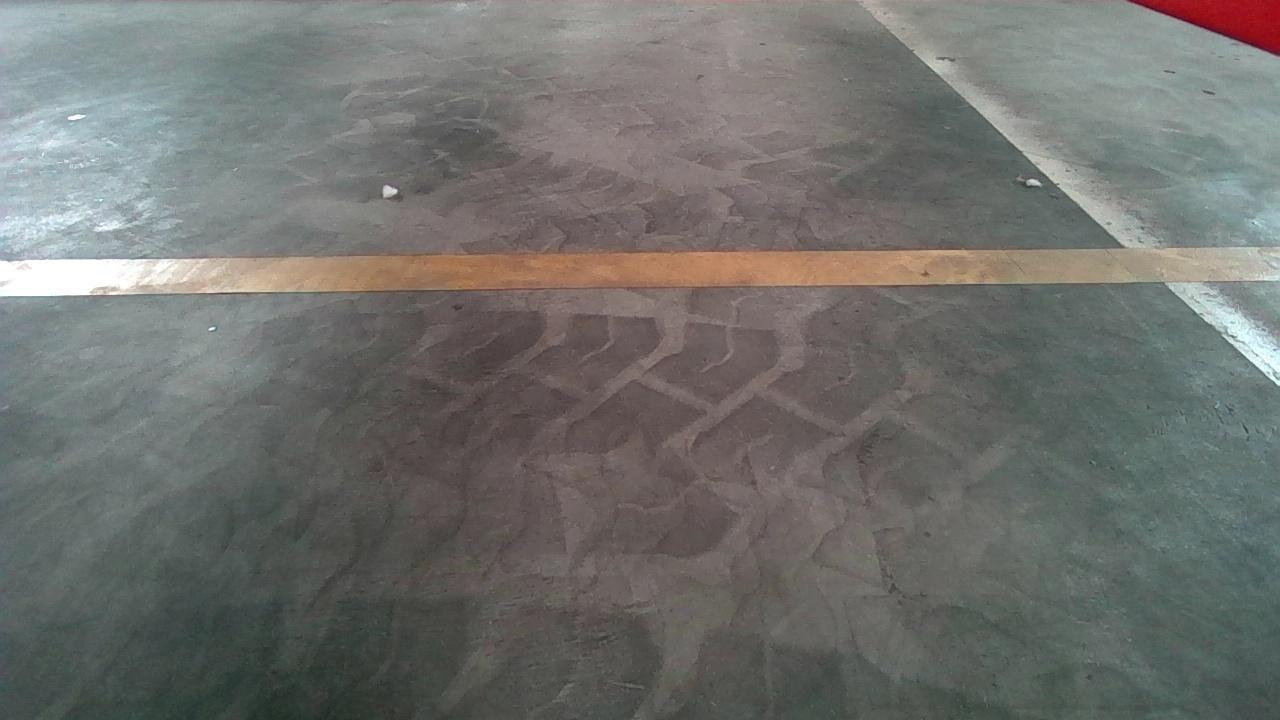yellow_line: (3, 239, 1280, 296)
